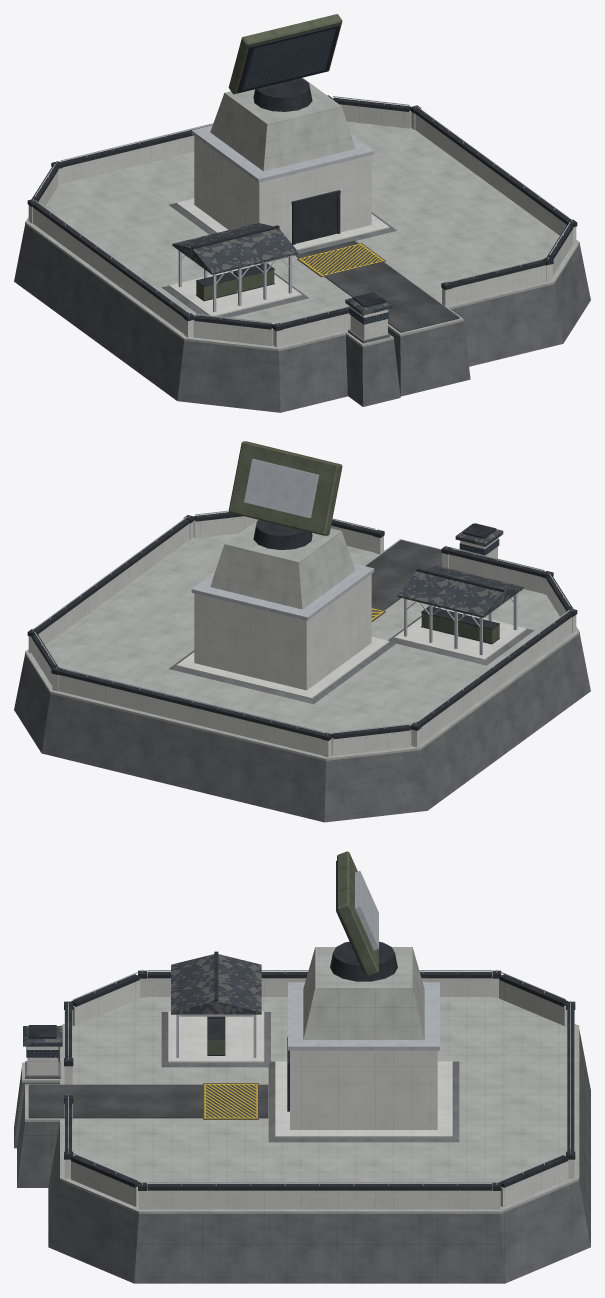
File: abm_radar.glb
3 renders of one model, top to bottom at view 1: azimuth 30°, elevation 25°; view 2: azimuth 150°, elevation 25°; view 3: azimuth 270°, elevation 25°, orthographic. The views are drawn at different scales.
Parts seen in each view (by area): view 1: RAD_L1_ConcMid, RAD_L1_ConcDark, RAD_L1_ConcLight, RAD_L1_SteelDark, RAD_L1_SteelTruss, RAD_L1_Asphalt, RAD_L1_PhasedArray, RAD_L1_RoofCorr, RAD_L1_MilOlive, RAD_L1_DoorCorr, RAD_L1_HatchZone; view 2: RAD_L1_ConcMid, RAD_L1_ConcDark, RAD_L1_ConcLight, RAD_L1_SteelDark, RAD_L1_SteelTruss, RAD_L1_MilOlive, RAD_L1_RoofCorr, RAD_L1_Asphalt; view 3: RAD_L1_ConcMid, RAD_L1_ConcDark, RAD_L1_ConcLight, RAD_L1_SteelDark, RAD_L1_SteelTruss, RAD_L1_Asphalt, RAD_L1_RoofCorr, RAD_L1_MilOlive, RAD_L1_HatchZone.
Boxes of the visible parts, <box> form: RAD_L1_ConcMid: <box>25,77,579,351</box>; RAD_L1_ConcDark: <box>14,203,590,412</box>; RAD_L1_ConcLight: <box>28,104,576,347</box>; RAD_L1_SteelDark: <box>27,78,577,331</box>; RAD_L1_SteelTruss: <box>32,96,572,325</box>; RAD_L1_Asphalt: <box>295,240,459,332</box>; RAD_L1_PhasedArray: <box>237,24,340,93</box>; RAD_L1_RoofCorr: <box>172,223,392,315</box>; RAD_L1_MilOlive: <box>196,14,342,300</box>; RAD_L1_DoorCorr: <box>295,194,337,243</box>; RAD_L1_HatchZone: <box>297,243,385,277</box>; RAD_L1_ConcMid: <box>25,519,579,760</box>; RAD_L1_ConcDark: <box>14,606,590,822</box>; RAD_L1_ConcLight: <box>28,516,576,757</box>; RAD_L1_SteelDark: <box>27,512,577,740</box>; RAD_L1_SteelTruss: <box>32,459,572,734</box>; RAD_L1_MilOlive: <box>228,441,499,643</box>; RAD_L1_RoofCorr: <box>397,523,523,617</box>; RAD_L1_Asphalt: <box>365,540,441,610</box>; RAD_L1_ConcMid: <box>22,947,579,1213</box>; RAD_L1_ConcDark: <box>14,1012,590,1283</box>; RAD_L1_ConcLight: <box>27,976,574,1209</box>; RAD_L1_SteelDark: <box>28,941,575,1190</box>; RAD_L1_SteelTruss: <box>68,871,570,1185</box>; RAD_L1_Asphalt: <box>28,1084,268,1118</box>; RAD_L1_RoofCorr: <box>23,954,261,1046</box>; RAD_L1_MilOlive: <box>207,851,378,1054</box>; RAD_L1_HatchZone: <box>203,1083,258,1119</box>.
Bounding box in the file's own units: 73.5 × 43.55 × 78.15.
Materials: 12 (12 with a texture image).
